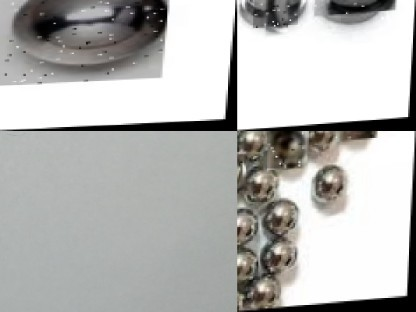ironball: (0, 0, 169, 86), (305, 165, 356, 214), (260, 231, 311, 276), (255, 195, 302, 242), (240, 274, 287, 311), (265, 131, 308, 169), (264, 197, 302, 240), (244, 165, 281, 205), (237, 129, 277, 165), (314, 0, 396, 17), (253, 0, 299, 28), (237, 244, 264, 290), (298, 132, 341, 158), (237, 205, 263, 241), (237, 151, 246, 193)
